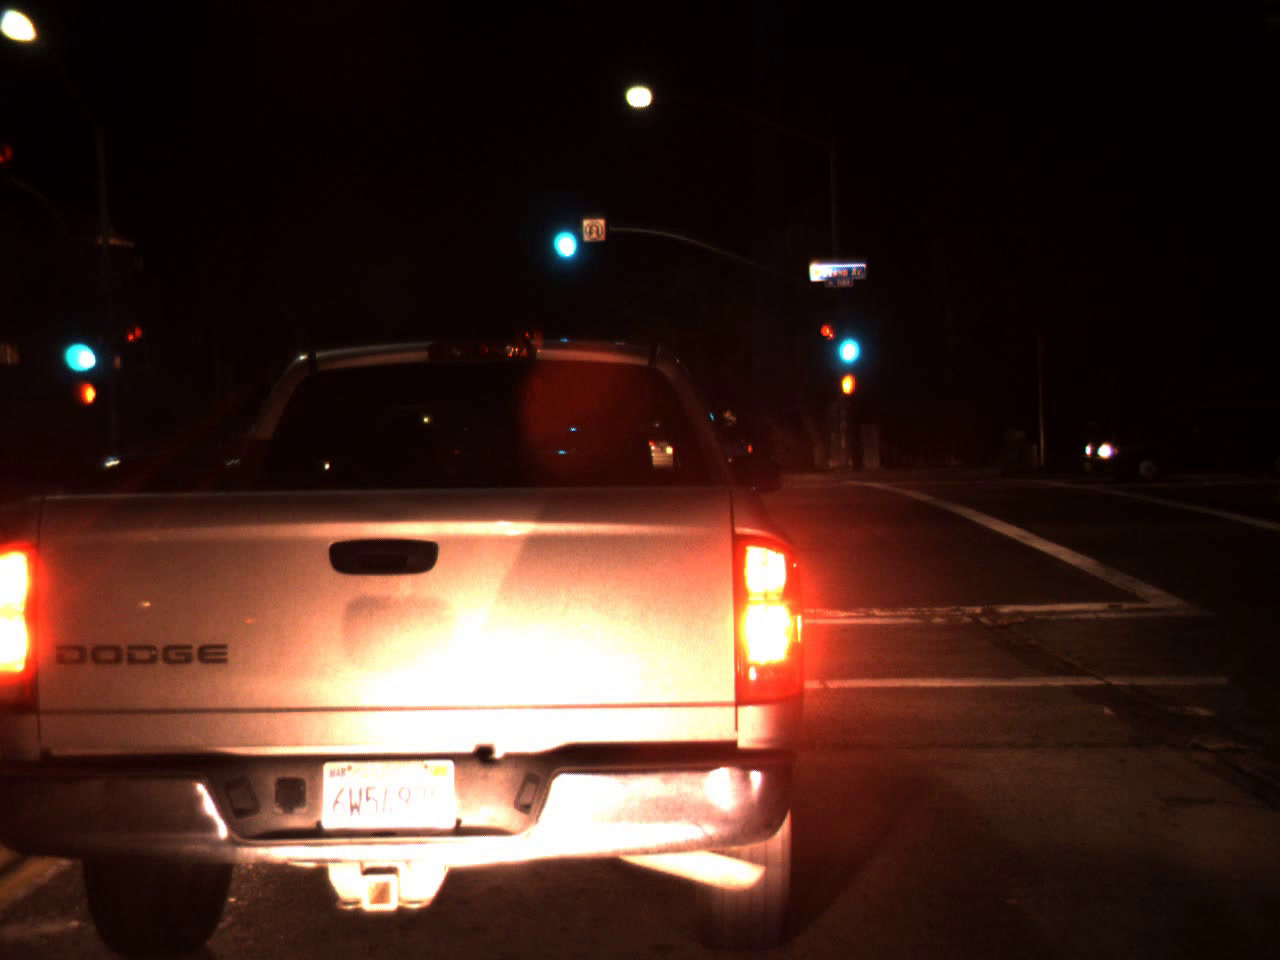go: (53, 307, 99, 382), (543, 197, 582, 269), (830, 307, 864, 373)
